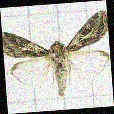Spodoptera litura: (4, 13, 110, 98)
